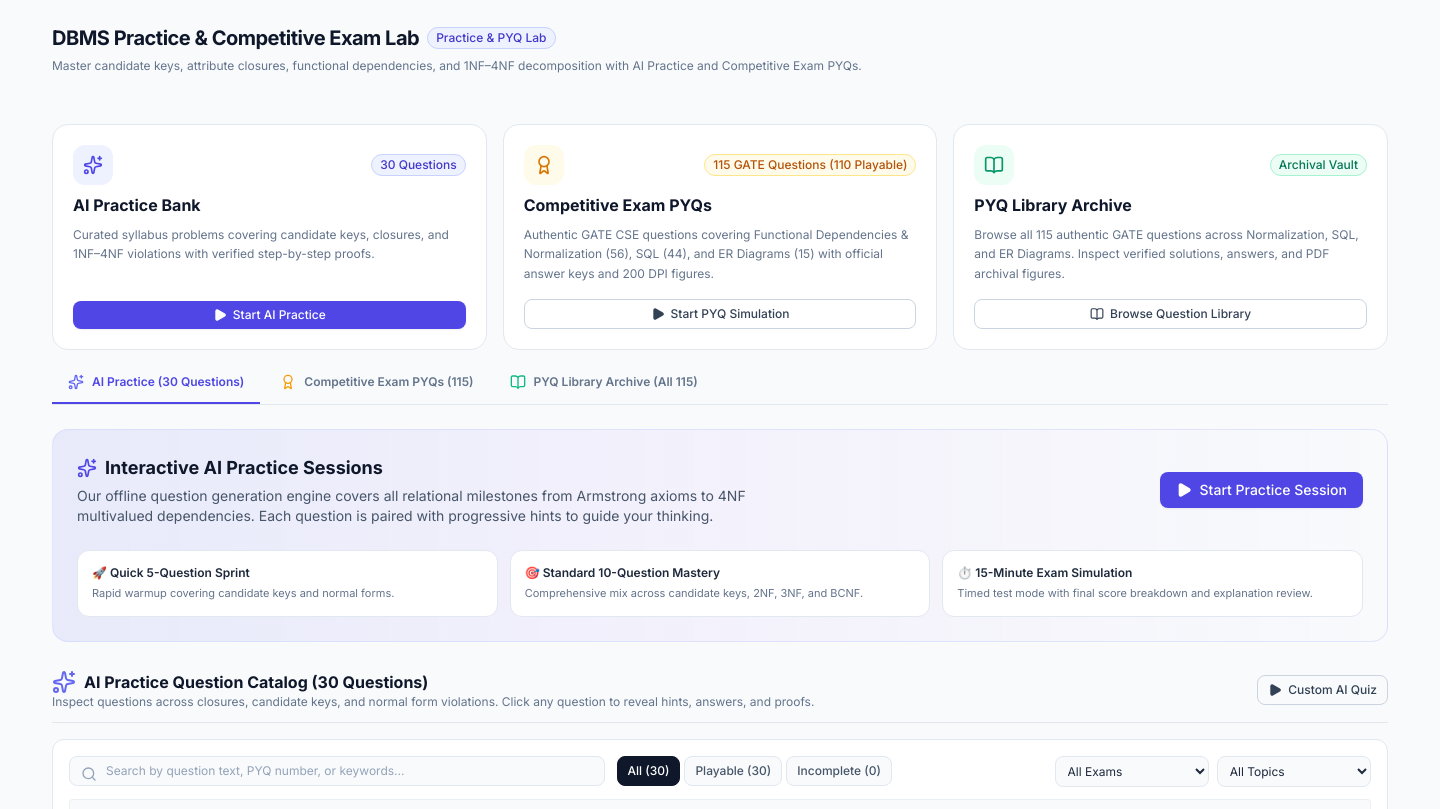
Scenario: PracticePage Interactive PYQ Clicks › directly starts Mixed GATE DBMS quiz when clicking mixed exam button
What coordinates should you click on to do the following:
click the button "Competitive Exam PYQs (115)"
I would click on:
 (377, 389)
Its box is [264,374,490,404].
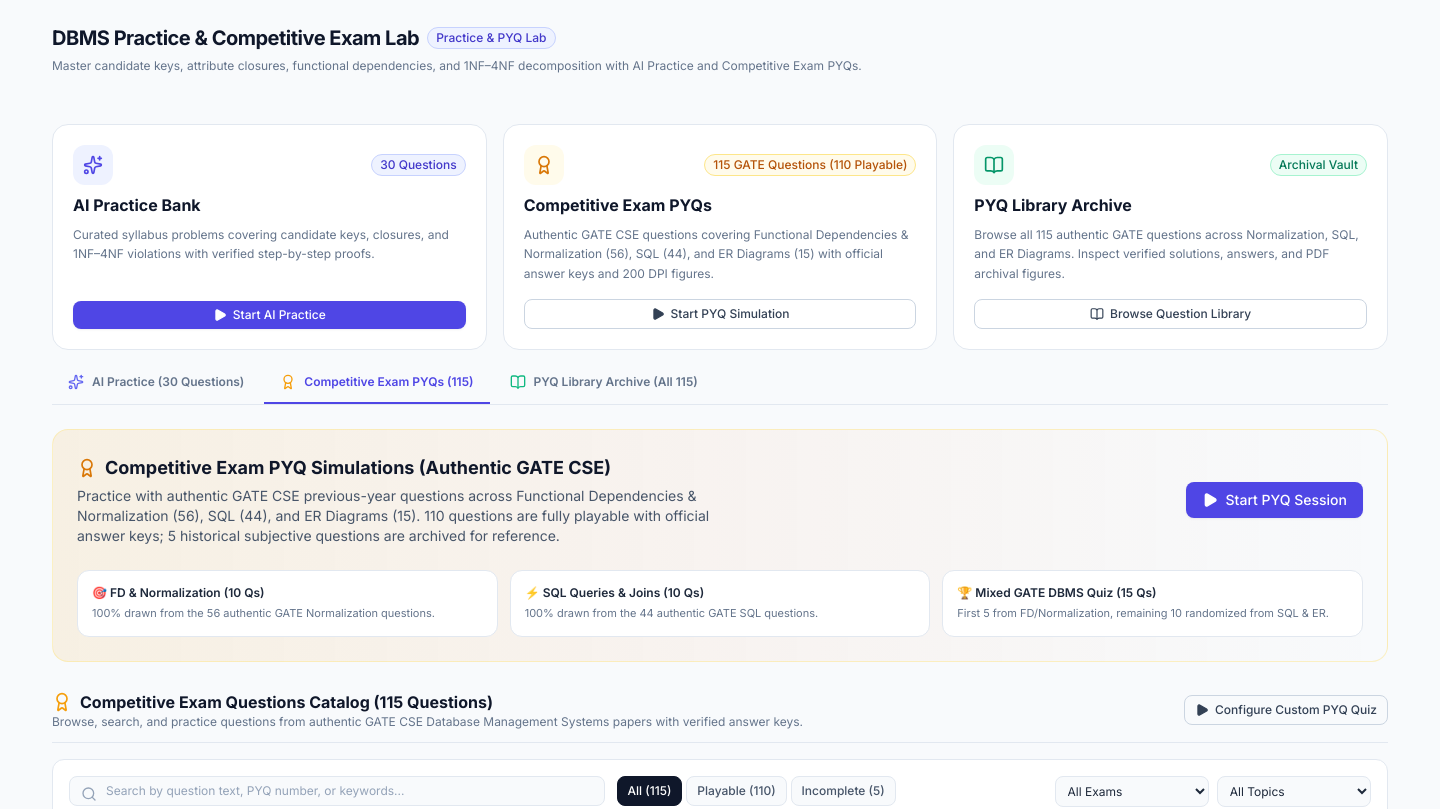
Expected: the button with id "mixed-gate-quiz-btn" is shown
What coordinates should you click on to do the following:
click the button with id "mixed-gate-quiz-btn"
I would click on:
 (1153, 603)
Its box is [942,570,1363,636].
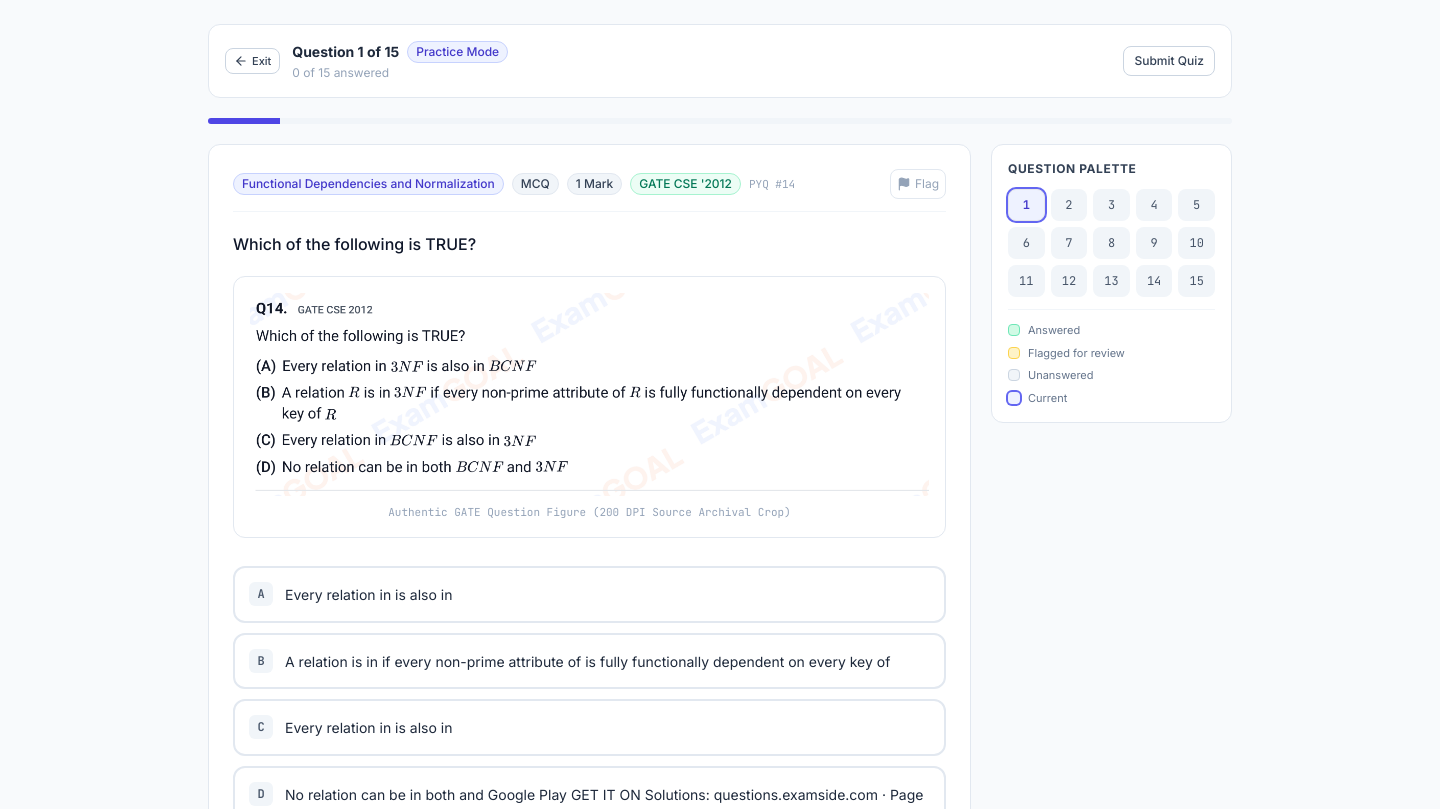
Expected: the text "Question 1 of 15" is shown, [292,42,399,62]
